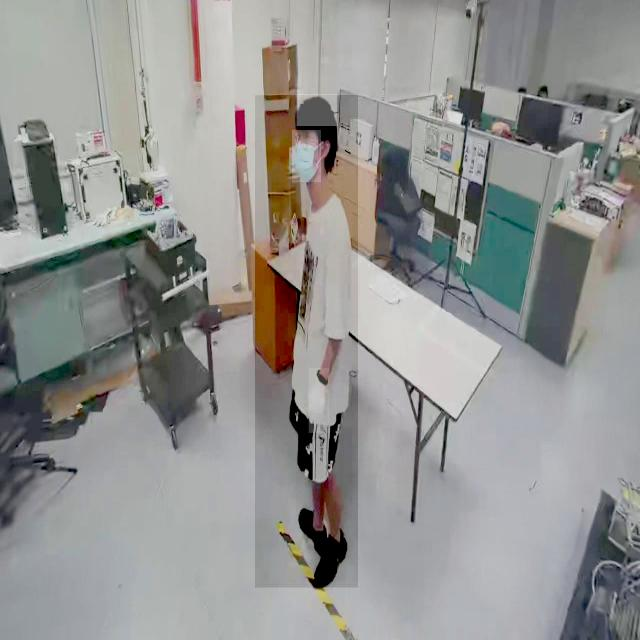face_mask: (292, 130, 321, 182)
hand_glove: (308, 368, 330, 434)
head_nohelmet: (296, 94, 338, 127)
person: (255, 95, 359, 589)
shoes: (309, 514, 352, 594), (295, 498, 327, 551)
